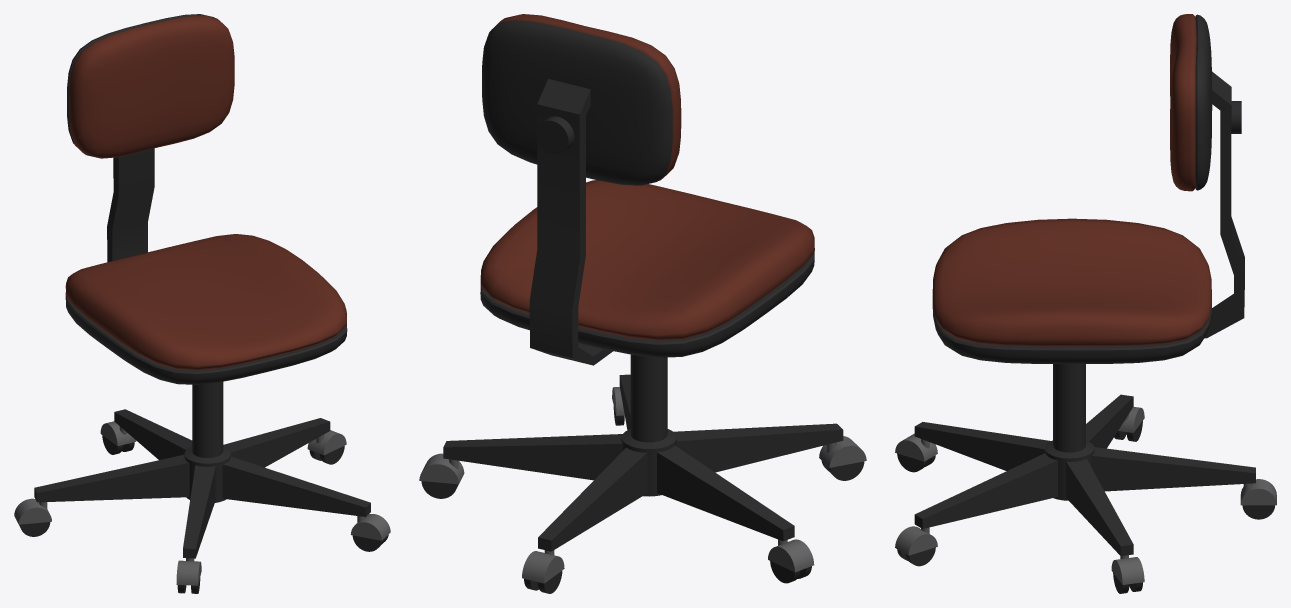
The model's file is Booth_Desk_Chair.FBX.
3 views of the same model, side by side, from view 1: azimuth 30°, elevation 25°; view 2: azimuth 150°, elevation 25°; view 3: azimuth 270°, elevation 25° (orthographic). The views are drawn at different scales.
Visible parts, largest first — view 1: Buerostuhl, Buerostuh1, Challenge-; view 2: Buerostuh1, Buerostuhl, Challenge-; view 3: Buerostuhl, Buerostuh1, Challenge-.
Boxes of the visible parts, box(x1,y1,x2,y2) form: Buerostuhl: box(65, 15, 346, 370); Buerostuh1: box(19, 14, 388, 593); Challenge-: box(14, 421, 390, 585); Buerostuh1: box(421, 20, 864, 593); Buerostuhl: box(480, 14, 814, 340); Challenge-: box(419, 387, 866, 583); Buerostuhl: box(932, 14, 1211, 346); Buerostuh1: box(897, 14, 1274, 593); Challenge-: box(895, 406, 1276, 584).
Bounding box in the file's own units: 74.6 × 97.83 × 70.94.
